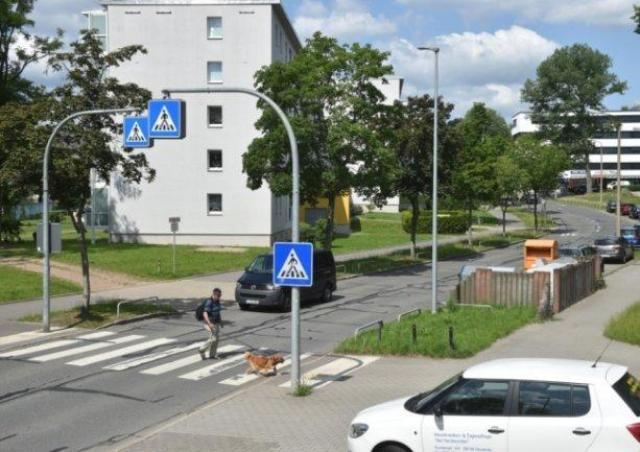crosswalk-sign: (273, 243, 314, 288), (148, 100, 182, 139), (127, 120, 152, 146)
